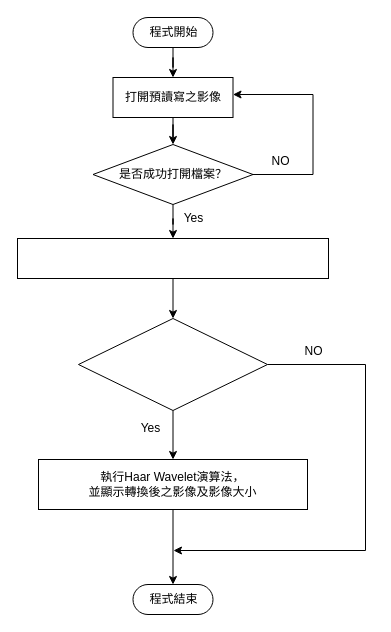
Image size: 391x632. Some labels were removed from this diagram. The shapes that lost their labels are listed below. From the top down, each one's centre as x and y in pixels, then its label:
At (x=172, y=258): "讀入影像檔案，自動轉成灰階影像， 並顯示影像檔案格式、大小".
At (x=173, y=364): "是否給予 WT Level層數 ？".
